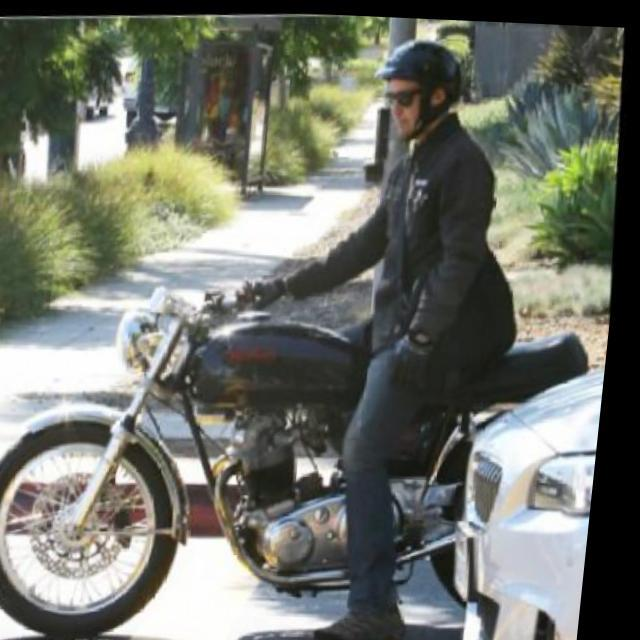Helmet: (361, 32, 467, 148)
